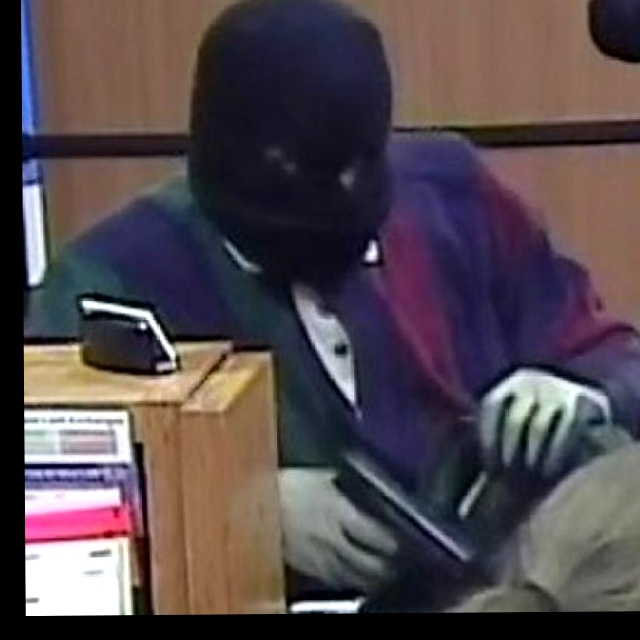gun: (303, 448, 492, 600)
